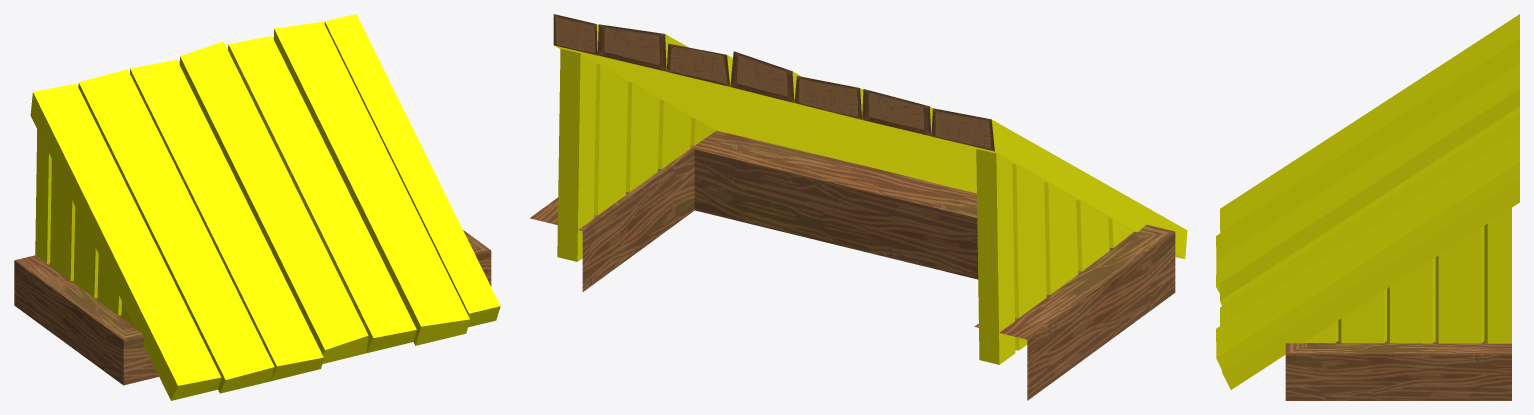
Rendered from roof-wooden-2x1.glb.
3 renders of one model, left to right at view 1: azimuth 30°, elevation 25°; view 2: azimuth 150°, elevation 25°; view 3: azimuth 270°, elevation 25°, orthographic. The views are drawn at different scales.
Parts seen in each view (by area): view 1: Roof_Wooden_2x1; view 2: Roof_Wooden_2x1; view 3: Roof_Wooden_2x1.
Boxes of the visible parts, x1,y1,x2,y2 form: Roof_Wooden_2x1: [14, 14, 500, 400]; Roof_Wooden_2x1: [530, 14, 1187, 400]; Roof_Wooden_2x1: [1216, 14, 1519, 400].
Bounding box in the file's own units: 2.26 × 1.25 × 1.56.
Materials: 2 (1 with a texture image).
